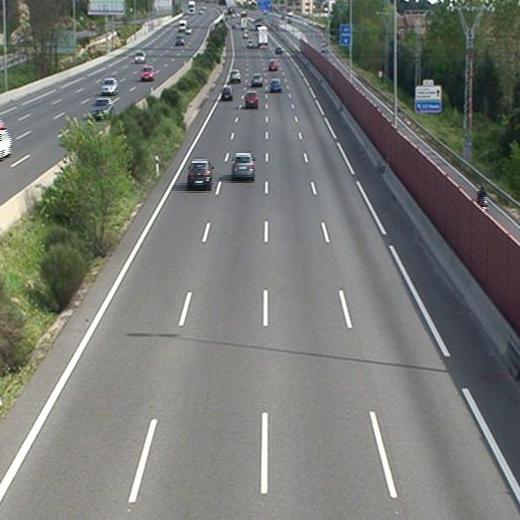car: (187, 160, 213, 190), (232, 152, 255, 182), (244, 92, 260, 107), (221, 85, 234, 101), (250, 74, 263, 88), (271, 79, 282, 92), (231, 69, 240, 82), (267, 60, 278, 69)
truck: (256, 26, 268, 48)
